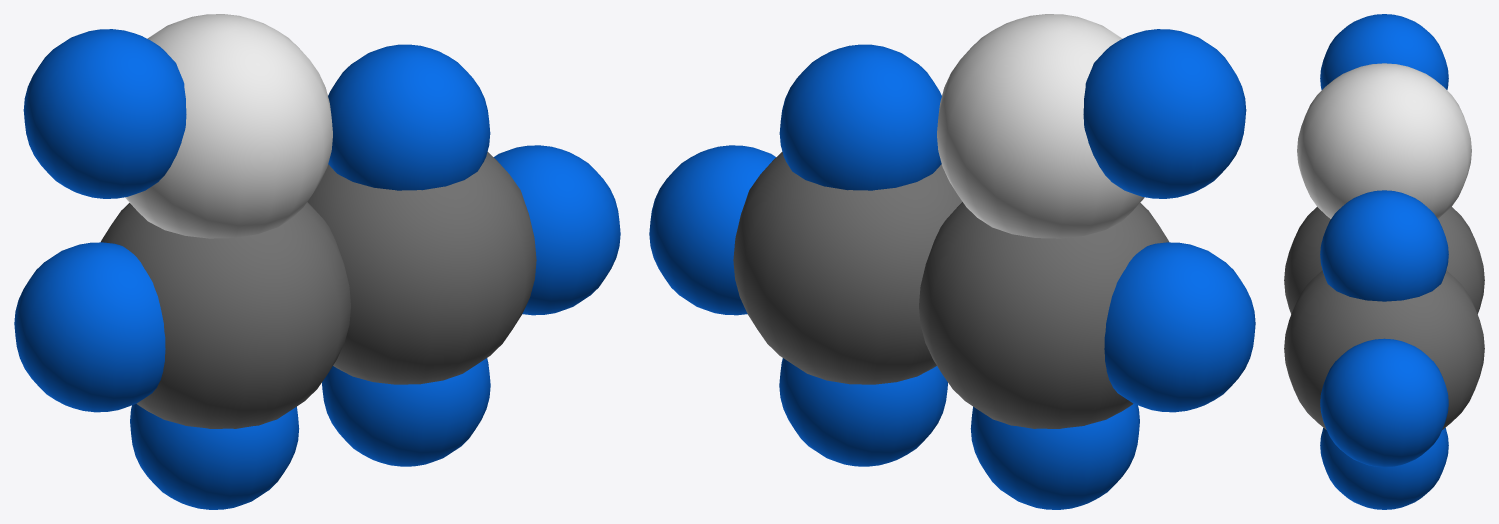
File: ethmol.fbx
3 renders of one model, left to right at view 1: azimuth 30°, elevation 25°; view 2: azimuth 150°, elevation 25°; view 3: azimuth 270°, elevation 25°, orthographic. The views are drawn at different scales.
Parts seen in each view (by area): view 1: carbon2, carbon1, Oxygen11, Hydrogen9, Hydrogen12, Hydrogen1, Hydrogen4, Hydrogen3, Hydrogen5; view 2: carbon2, carbon1, Oxygen11, Hydrogen9, Hydrogen12, Hydrogen1, Hydrogen4, Hydrogen3, Hydrogen5; view 3: Oxygen11, carbon1, Hydrogen4, Hydrogen1, Hydrogen9, Hydrogen3, carbon2.
Part boxes in pixels (bbox=[...]): carbon2: bbox=[101, 202, 350, 428]; carbon1: bbox=[307, 152, 536, 384]; Oxygen11: bbox=[125, 14, 332, 238]; Hydrogen9: bbox=[23, 29, 186, 198]; Hydrogen12: bbox=[14, 242, 165, 412]; Hydrogen1: bbox=[328, 44, 490, 190]; Hydrogen4: bbox=[493, 145, 620, 315]; Hydrogen3: bbox=[322, 358, 490, 466]; Hydrogen5: bbox=[130, 404, 299, 509]; carbon2: bbox=[919, 202, 1168, 428]; carbon1: bbox=[733, 152, 962, 384]; Oxygen11: bbox=[937, 14, 1144, 238]; Hydrogen9: bbox=[1083, 29, 1246, 198]; Hydrogen12: bbox=[1104, 242, 1255, 412]; Hydrogen1: bbox=[779, 44, 941, 190]; Hydrogen4: bbox=[649, 145, 776, 315]; Hydrogen3: bbox=[779, 358, 947, 466]; Hydrogen5: bbox=[970, 404, 1139, 509]; Oxygen11: bbox=[1297, 63, 1471, 218]; carbon1: bbox=[1284, 270, 1484, 429]; Hydrogen4: bbox=[1320, 338, 1448, 467]; Hydrogen1: bbox=[1320, 190, 1448, 301]; Hydrogen9: bbox=[1320, 14, 1448, 89]; Hydrogen3: bbox=[1320, 428, 1448, 509]; carbon2: bbox=[1284, 207, 1484, 313].
Size of the model in its own units: 7.56 by 6.12 by 2.98.
